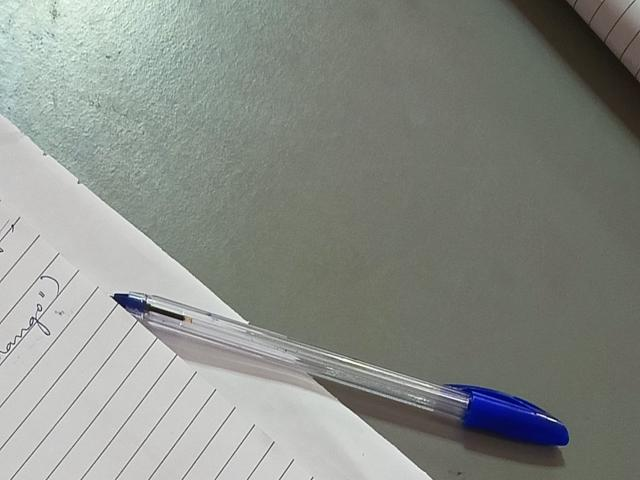PEN: (94, 267, 589, 469)
